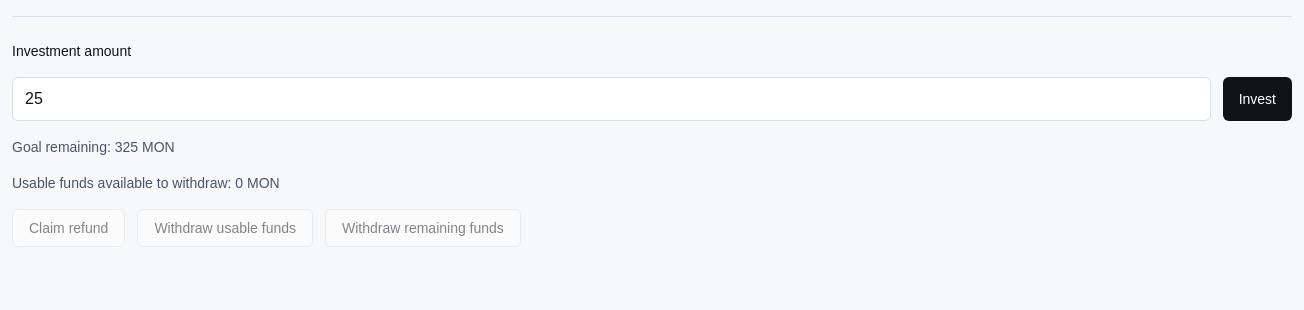
Test: CampaignActions › shows an error message on failed transaction
Click the button "Invest": (1257, 99) [1223,77,1292,121]
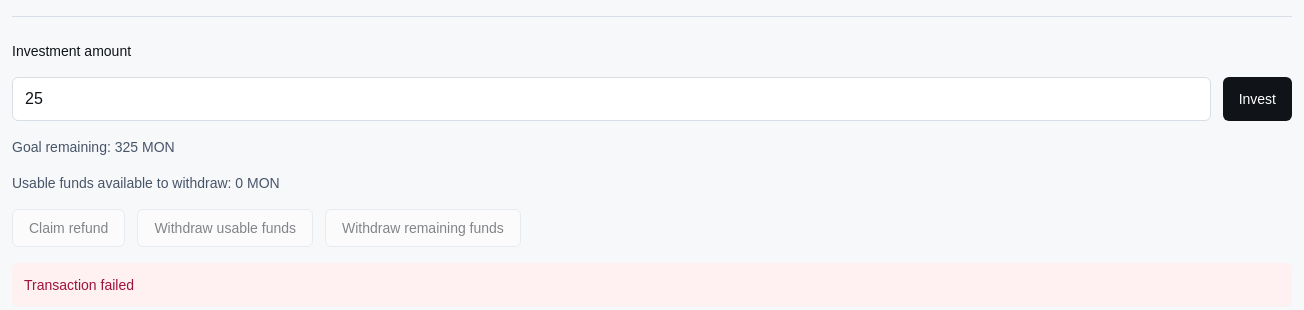
Check: the message reads "Transaction failed", box [24,277,134,293]
